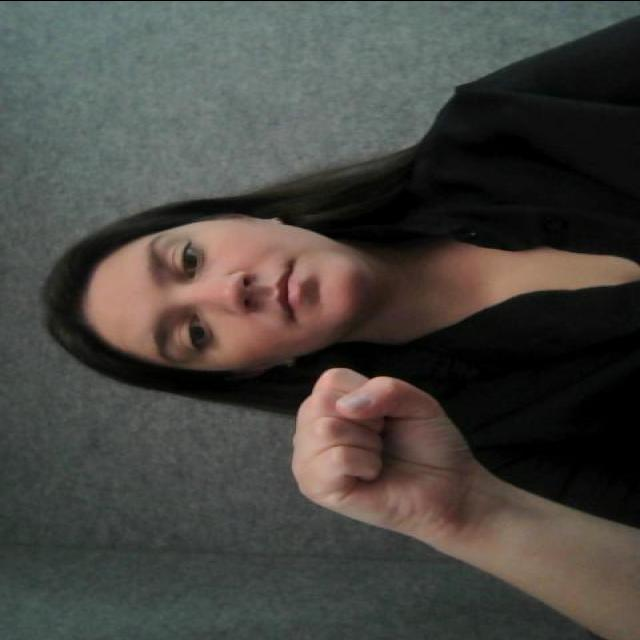Rock: (261, 366, 478, 522)
